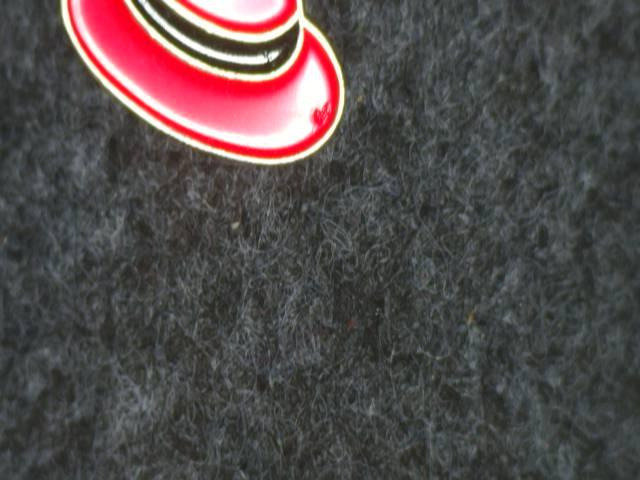Red-Hat: (47, 0, 369, 206)
